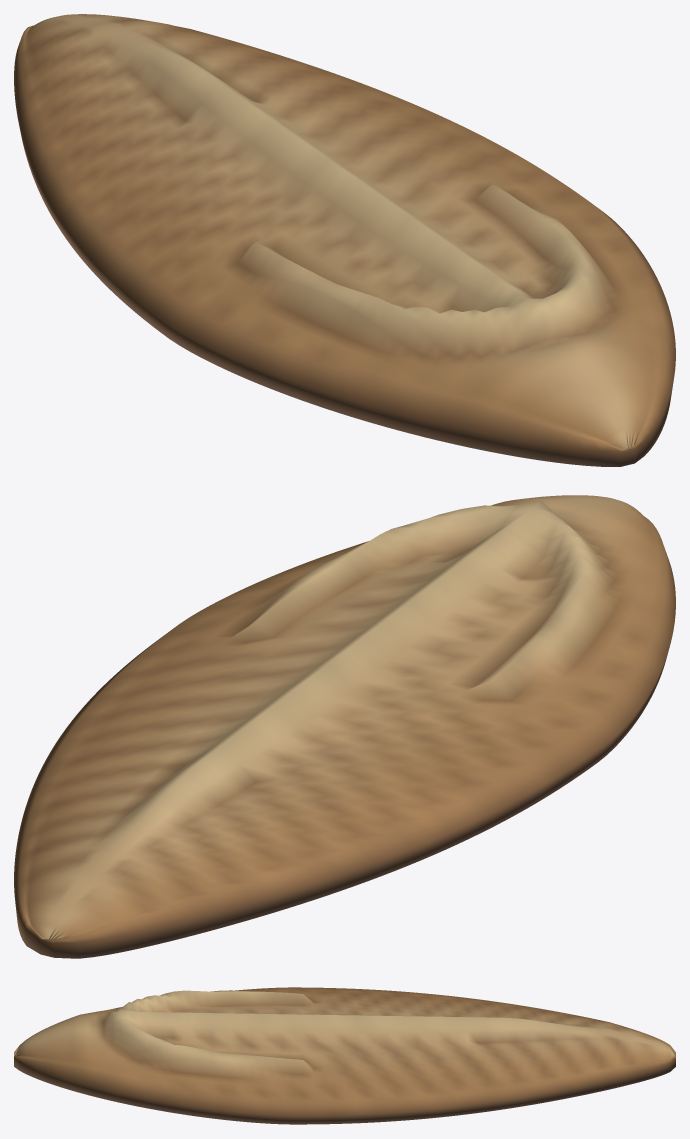
The model's file is ParvancorinaSagitta.fbx.
3 views of the same model, one above another, from view 1: azimuth 30°, elevation 25°; view 2: azimuth 150°, elevation 25°; view 3: azimuth 270°, elevation 25° (orthographic). The views are drawn at different scales.
Visible parts, largest first — view 1: ParvancorinaSagitta; view 2: ParvancorinaSagitta; view 3: ParvancorinaSagitta.
Boxes of the visible parts, x1,y1,x2,y2 form: ParvancorinaSagitta: (14,14,675,466); ParvancorinaSagitta: (14,495,675,958); ParvancorinaSagitta: (14,987,675,1124).
Size of the model in its own units: 0.616 by 0.1244 by 1.4.
